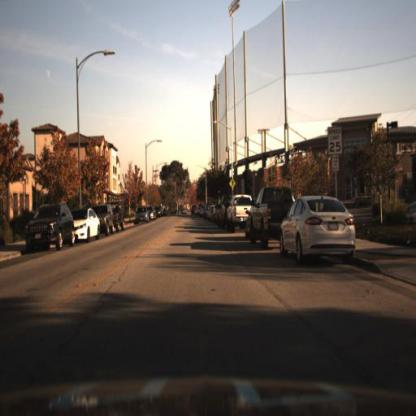car: (280, 195, 357, 263), (248, 184, 297, 250), (25, 201, 75, 256), (225, 190, 252, 234), (72, 208, 100, 247), (112, 200, 129, 236), (100, 202, 116, 238), (135, 206, 151, 228)
